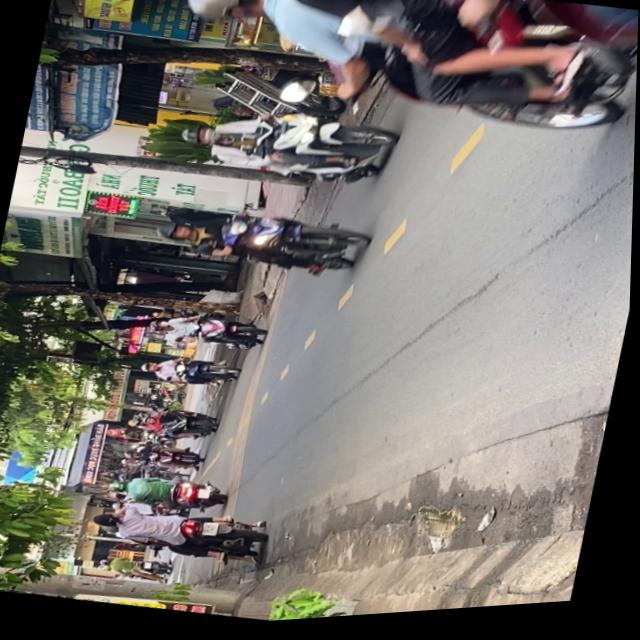helmet: (181, 0, 270, 33), (155, 219, 196, 245), (179, 123, 217, 149)
licenseplate: (160, 0, 640, 183), (172, 90, 401, 205), (149, 188, 376, 298), (86, 490, 275, 578)
motorcyclist: (93, 509, 124, 530), (190, 0, 281, 6)
nohelmet: (204, 522, 221, 539)
